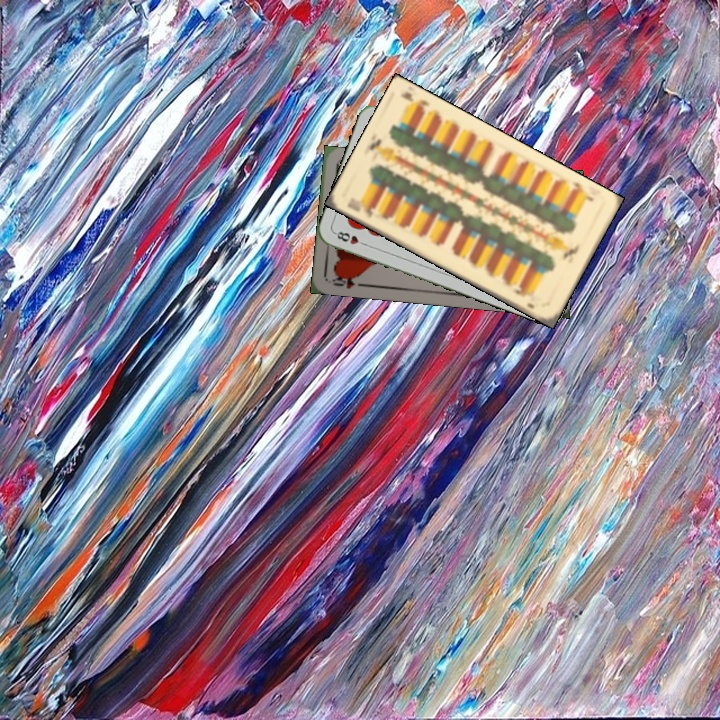E10: (343, 198, 377, 221), (568, 177, 596, 204)
H8: (331, 227, 370, 249)
HO: (328, 271, 367, 291)
